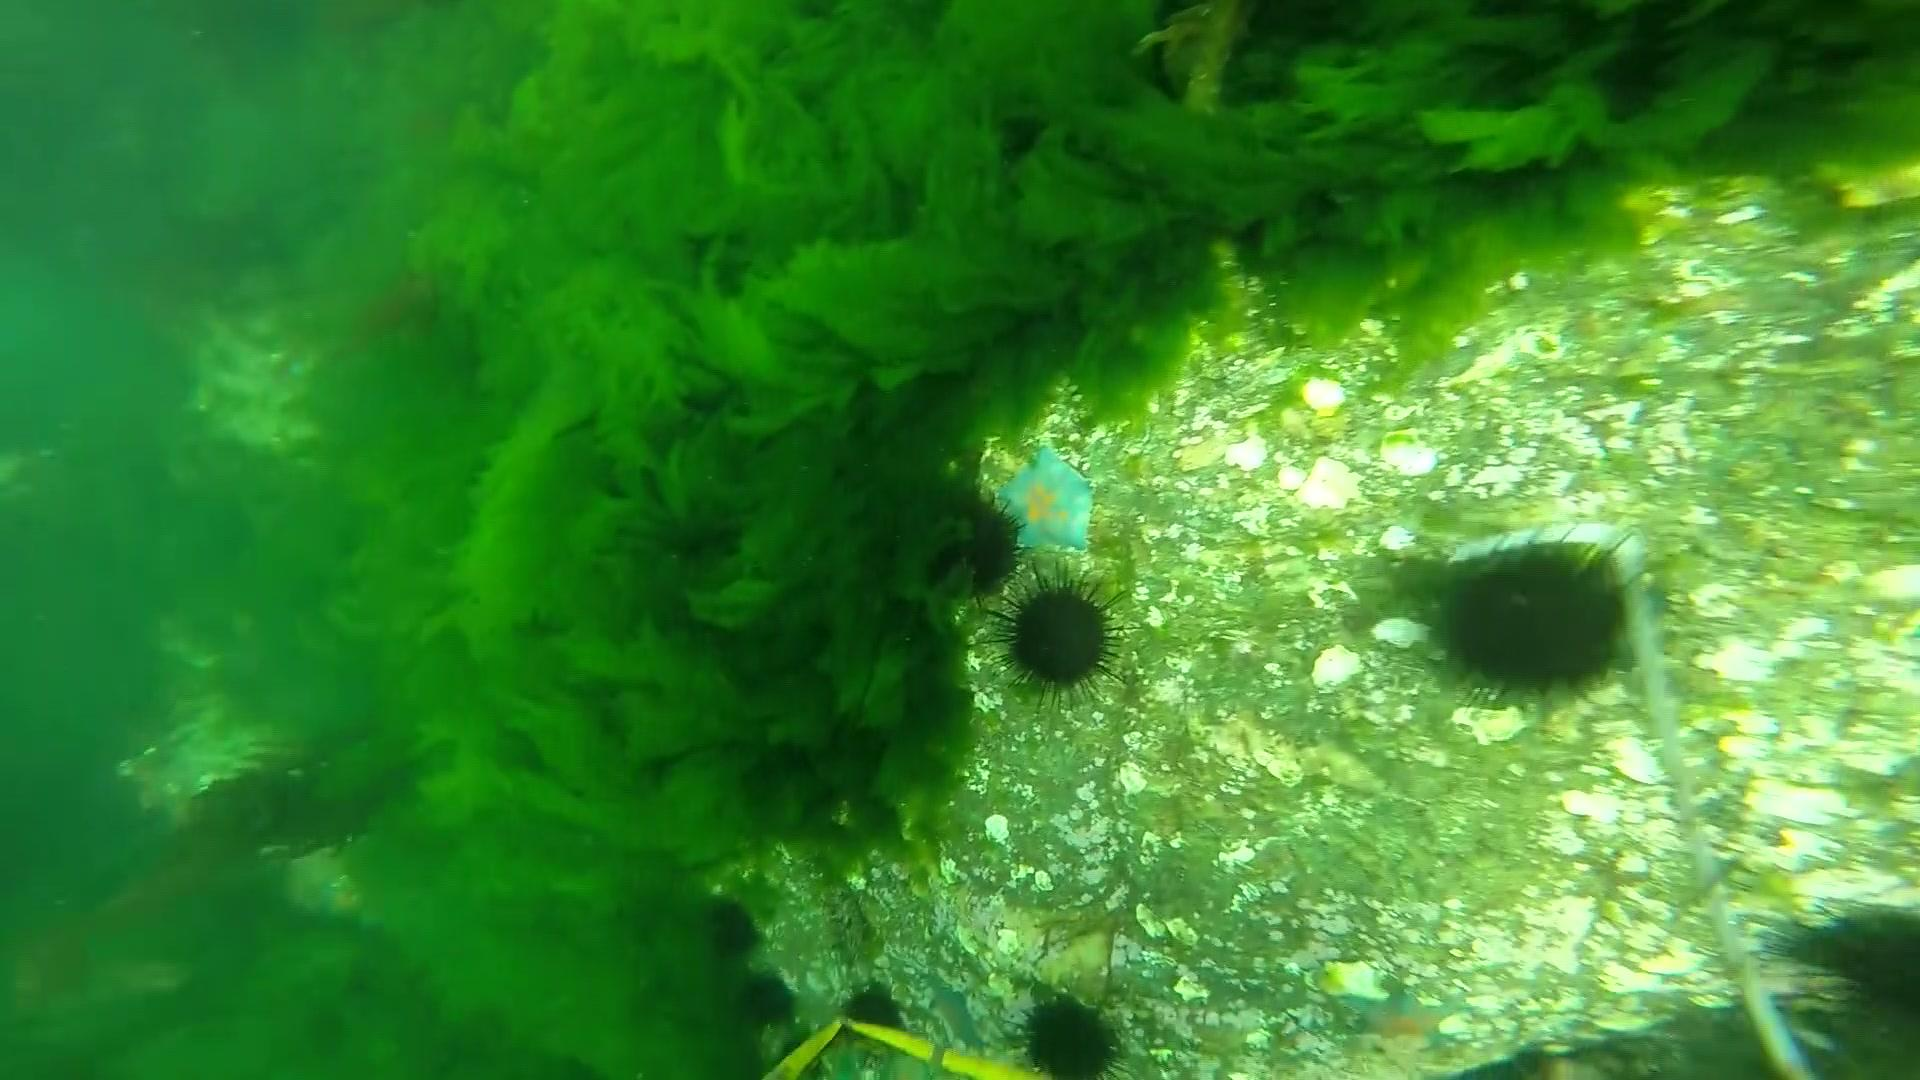echinus: (1425, 518, 1644, 724), (1756, 894, 1920, 1059), (975, 560, 1142, 717), (909, 483, 1031, 603), (1007, 989, 1139, 1080), (836, 984, 909, 1044), (704, 895, 766, 963), (741, 971, 800, 1031)
starfish: (986, 440, 1102, 560), (1342, 978, 1466, 1050)
